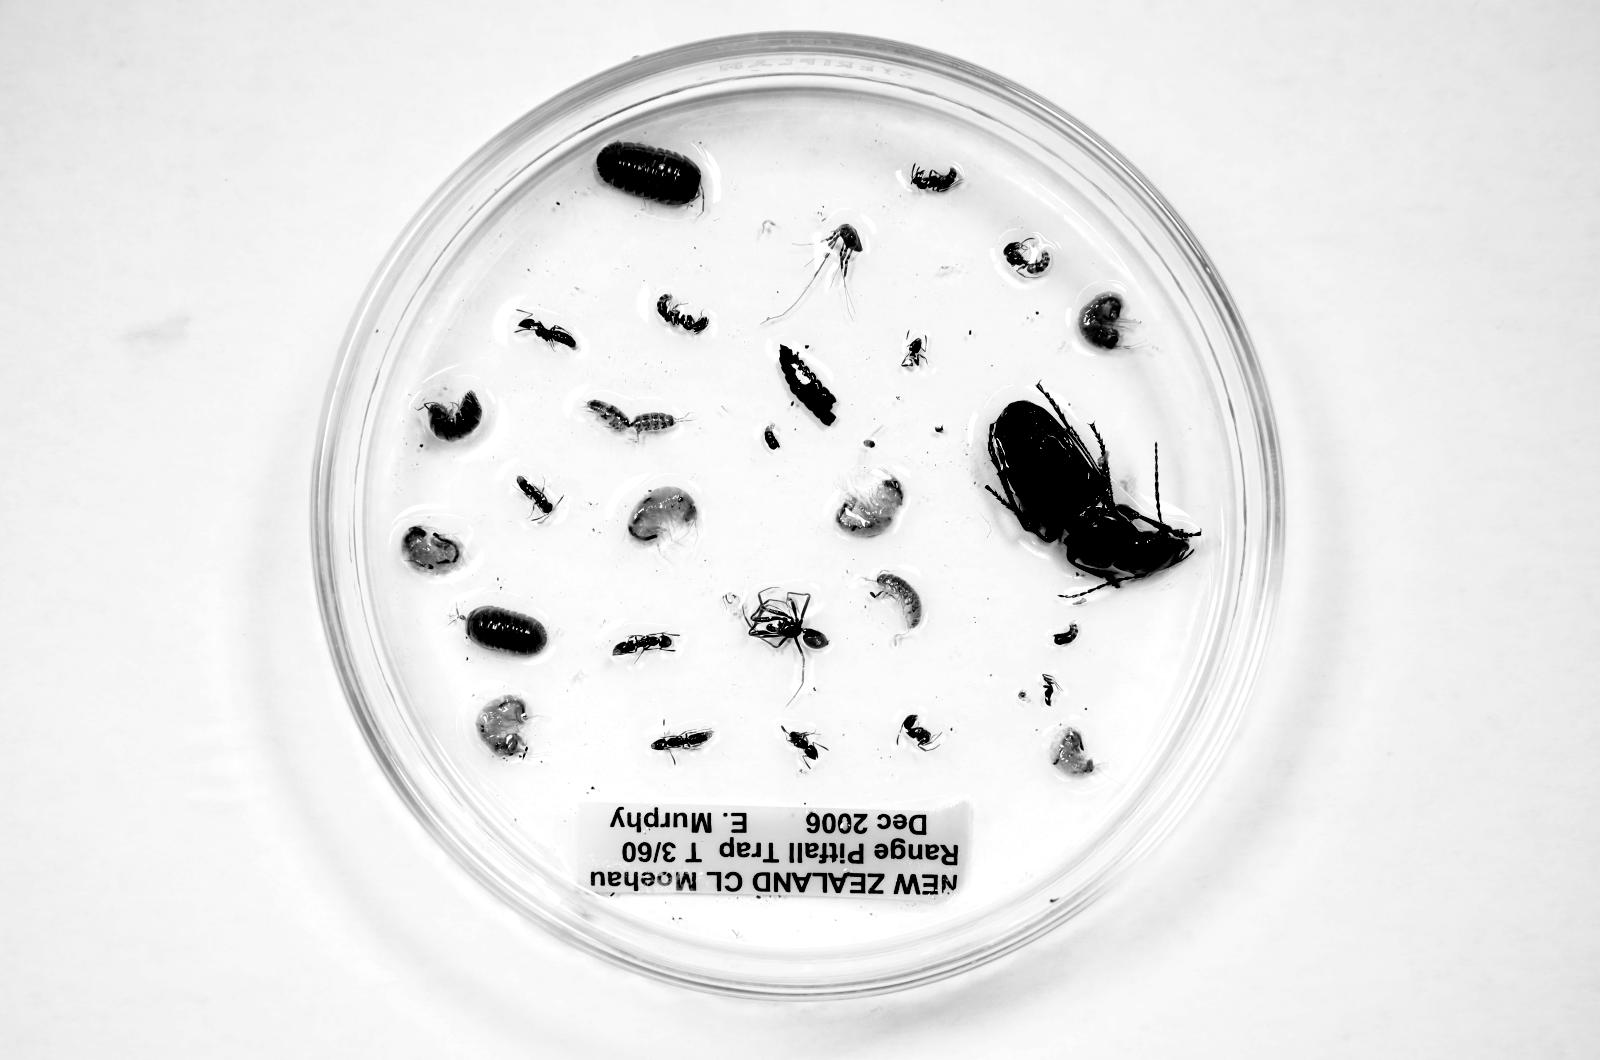amphipoda: (836, 470, 904, 537), (628, 487, 698, 543), (476, 694, 528, 757), (402, 524, 463, 575), (1078, 291, 1125, 350), (1049, 726, 1095, 777)
araneae: (746, 592, 829, 649)
carabidae: (987, 383, 1198, 587)
formicidae: (515, 313, 578, 350), (657, 294, 710, 335), (1004, 235, 1051, 278), (516, 476, 559, 521), (612, 632, 680, 656), (900, 713, 942, 751), (651, 729, 713, 751), (910, 165, 959, 192), (784, 726, 819, 760)
isopoda: (597, 141, 702, 206), (465, 606, 547, 656), (873, 571, 923, 630), (425, 390, 482, 441)
opiliones: (824, 223, 863, 297)
